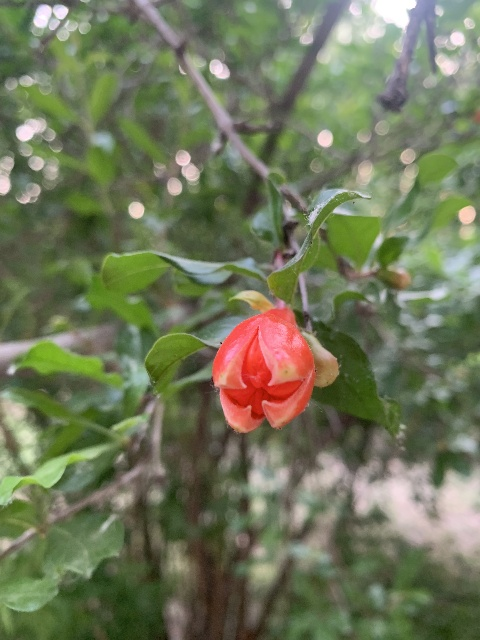bud: (301, 331, 339, 387)
flower: (212, 306, 314, 433)
